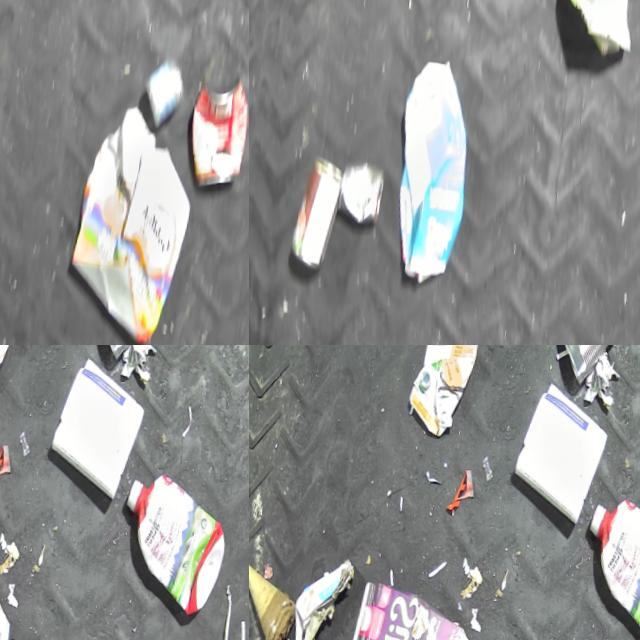can: (180, 71, 249, 198), (284, 152, 345, 276), (334, 158, 385, 231), (550, 345, 625, 394), (79, 345, 165, 365)
non_white_jug: (380, 55, 480, 294), (575, 496, 640, 640), (339, 577, 479, 640), (402, 345, 484, 446)
